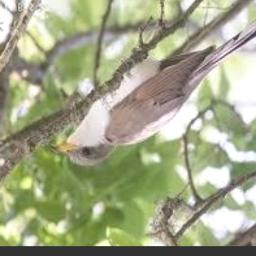Cuckoo: (49, 12, 256, 166)
